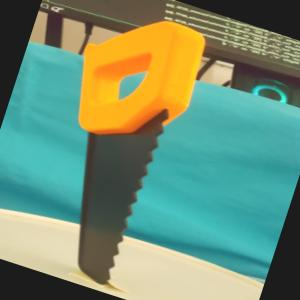serrote: (15, 0, 211, 293)
